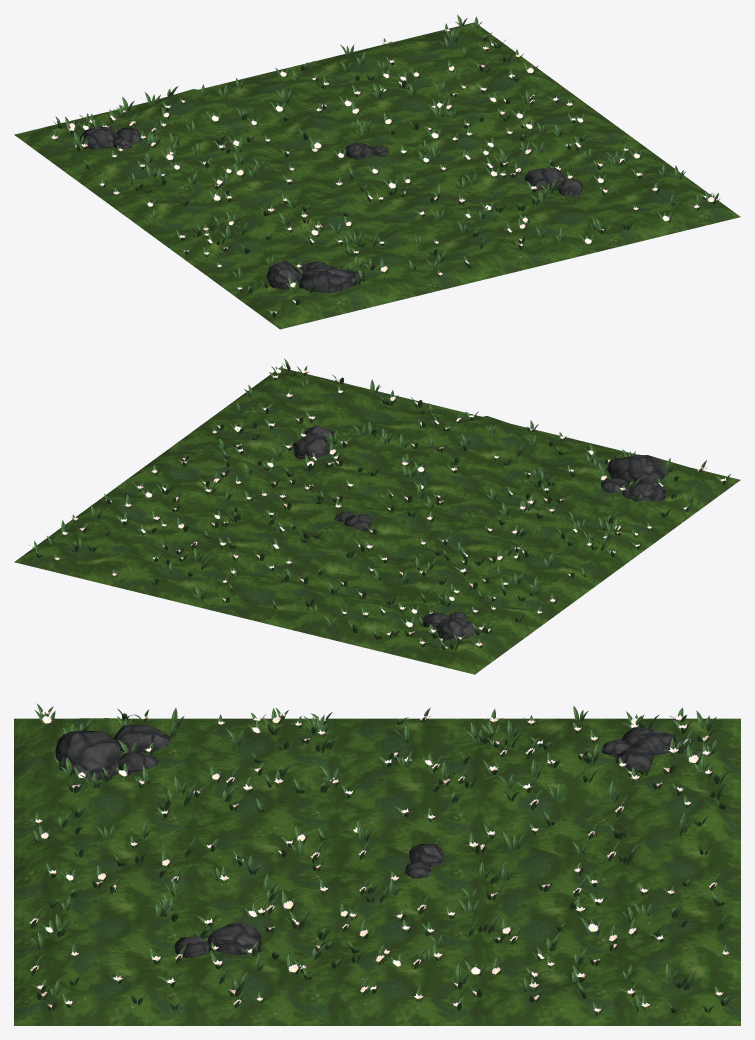
Rendered from ground.glb.
3 views of the same model, one above another, from view 1: azimuth 30°, elevation 25°; view 2: azimuth 150°, elevation 25°; view 3: azimuth 270°, elevation 25° (orthographic). The views are drawn at different scales.
Parts seen in each view (by area): view 1: Ground; view 2: Ground; view 3: Ground.
Part boxes in pixels (left/top/right/bottom): Ground: left=14, top=14, right=740, bottom=329; Ground: left=14, top=358, right=740, bottom=674; Ground: left=14, top=703, right=740, bottom=1025.
Size of what is drawn, in the model's own units: 32 by 1.61 by 32.
4 materials, 4 textured.
